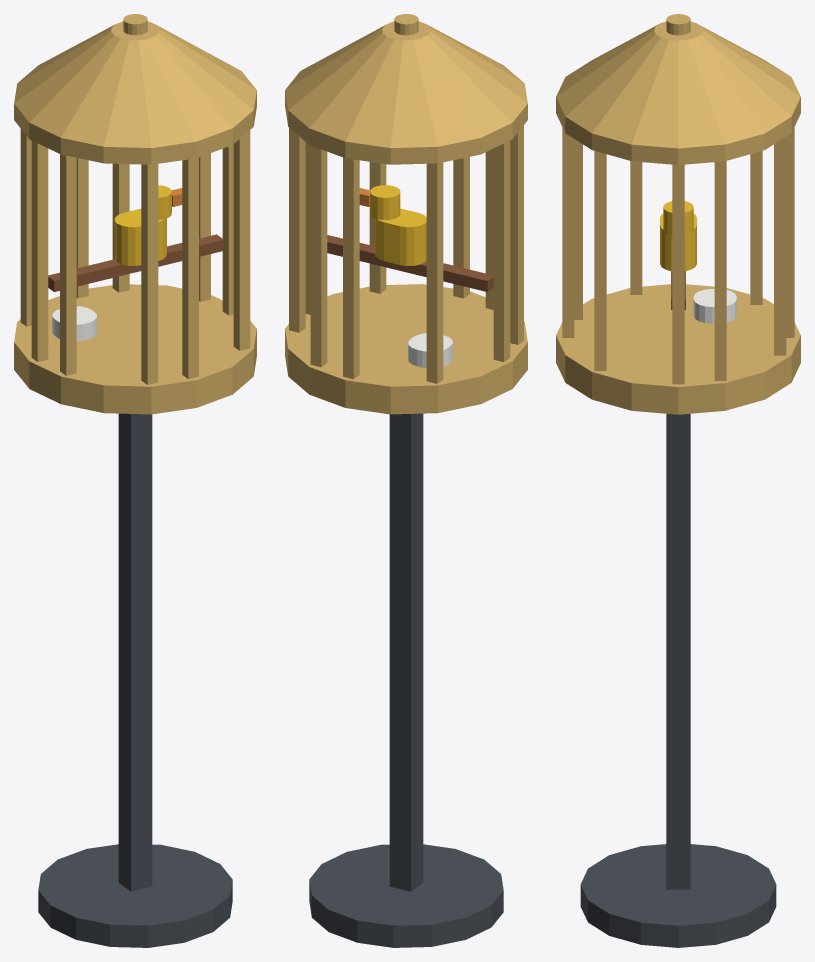
File: bird_cage.glb
3 renders of one model, left to right at view 1: azimuth 30°, elevation 25°; view 2: azimuth 150°, elevation 25°; view 3: azimuth 270°, elevation 25°, orthographic.
Parts seen in each view (by area): view 1: bird_cage_Body; view 2: bird_cage_Body; view 3: bird_cage_Body.
Boxes of the visible parts, left/top/right/bottom form: bird_cage_Body: left=14, top=14, right=256, bottom=947; bird_cage_Body: left=285, top=14, right=527, bottom=947; bird_cage_Body: left=556, top=14, right=800, bottom=947.
Size of the model in its own units: 0.4 by 1.6 by 0.4.
